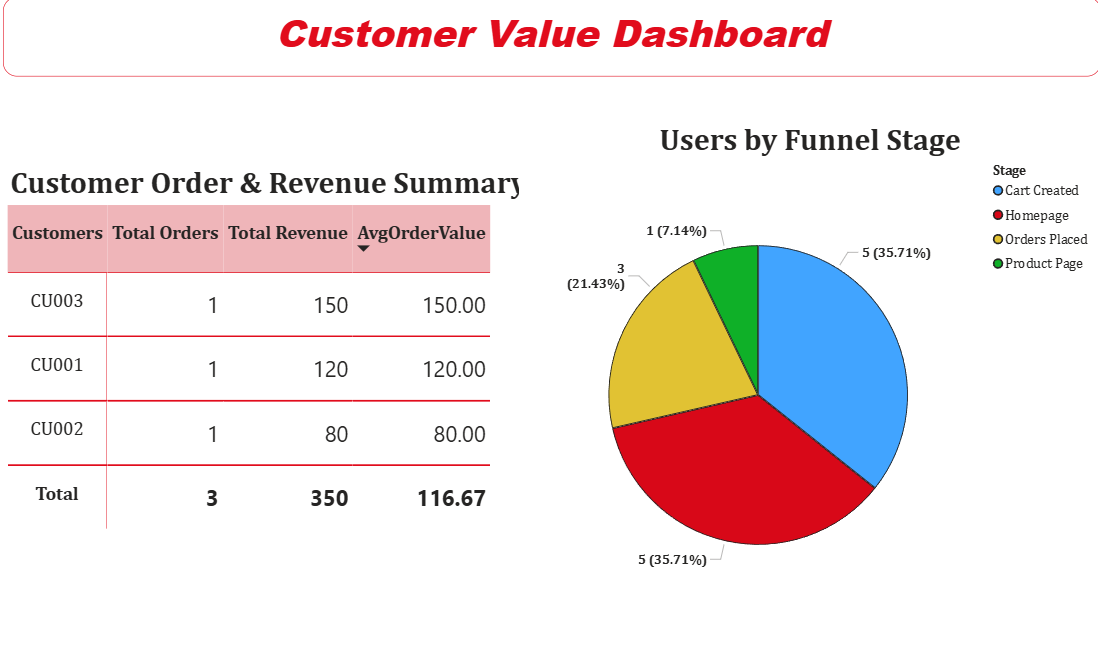

Layout of this report page (visuals, bound fields, positions):
{"tool":"powerbi","page":{"name":"Page 4: Customer Value Dashboard","canvas":[1280,803],"ordinal":3},"visuals":[{"type":"textbox","box":[9.5,0,1262.3,91.2],"z":0},{"type":"pivotTable","title":"Customer Order & Revenue Summary","fields":{"Rows":["customers.customer_id"],"Values":["CountNonNull(orders.order_id)","Sum(orders.order_amount)","orders.AvgOrderValue"]},"box":[9.5,193.9,610.2,507.6],"z":1000},{"type":"pieChart","title":"Users by Funnel Stage","fields":{"Category":["Funnel_Stages.Stage"],"Y":["Sum(Funnel_Stages.Users)"]},"box":[602.6,142.6,669.2,587.4],"z":2000}]}

Visuals, with their boxes on the page's 1280x803 design canvas (x1, y1, x2, y2). These are canvas units, not pixel positions in the 1098x655 screenshot, which may show the page scaled, cropped or inside an application window:
textbox: <region>10, 0, 1272, 91</region>
"Customer Order & Revenue Summary" pivotTable: <region>10, 194, 620, 702</region>
"Users by Funnel Stage" pieChart: <region>603, 143, 1272, 730</region>
